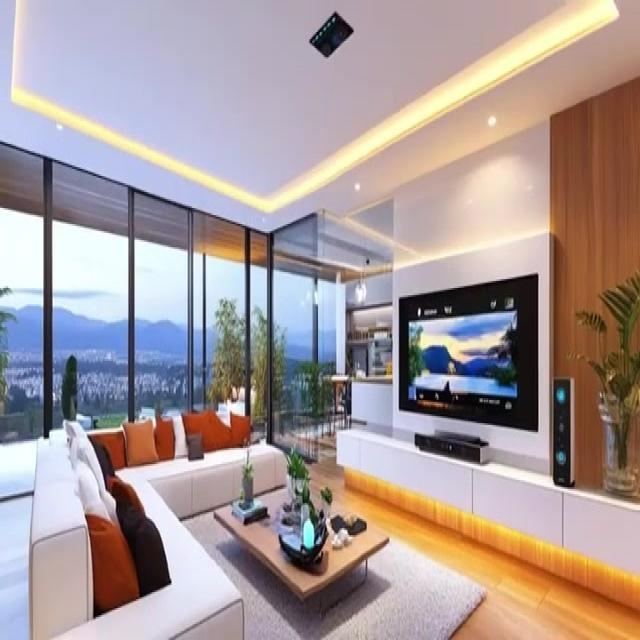obstacle: (28, 407, 287, 638), (213, 484, 389, 616)
